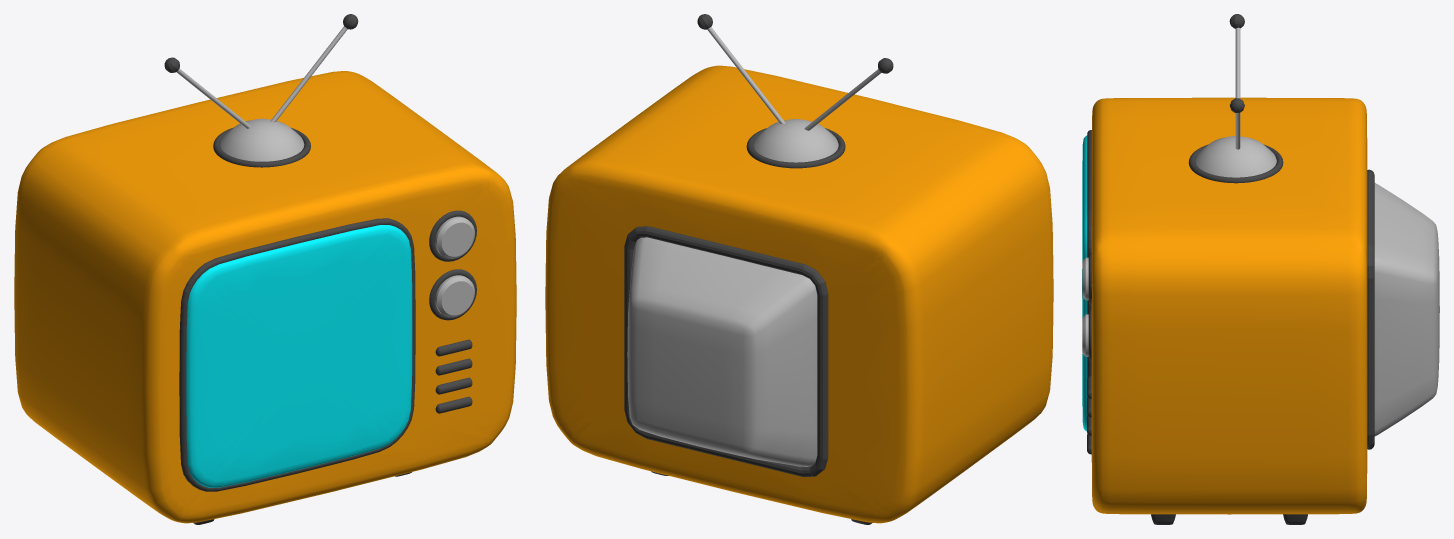
The model's file is vintage_tv.glb.
The picture shows the model from 3 angles, left to right: view 1: azimuth 30°, elevation 25°; view 2: azimuth 150°, elevation 25°; view 3: azimuth 270°, elevation 25°; orthographic projection. The views are drawn at different scales.
Visible parts, largest first — view 1: Plane_2, Plane.001_3, Plane.002_10, Sphere_4, Curve.002_0, Cube_6, Curve.023_1, Sphere.002_11, Curve.001_8, Curve.003_9; view 2: Plane_2, Cube.002_12, Cube.003_13, Sphere_4, Curve.023_1, Sphere.002_11; view 3: Plane_2, Cube.002_12, Sphere_4, Cube.003_13, Plane.001_3, Sphere.002_11, Plane.002_10, Curve.023_1, Curve.002_0, Cube.001_7.
Part boxes in pixels (box(x1,y1,x2,y2)): Plane_2: box(14, 71, 516, 523); Plane.001_3: box(186, 225, 412, 487); Plane.002_10: box(179, 218, 415, 491); Sphere_4: box(220, 118, 304, 161); Curve.002_0: box(435, 216, 474, 317); Cube_6: box(435, 339, 472, 413); Curve.023_1: box(176, 26, 347, 128); Sphere.002_11: box(213, 127, 310, 167); Curve.001_8: box(429, 210, 476, 261); Curve.003_9: box(429, 269, 476, 320); Plane_2: box(545, 65, 1053, 523); Cube.002_12: box(627, 237, 817, 466); Cube.003_13: box(624, 226, 828, 476); Sphere_4: box(753, 119, 838, 162); Curve.023_1: box(707, 27, 881, 130); Sphere.002_11: box(746, 128, 845, 168); Plane_2: box(1091, 97, 1367, 514); Cube.002_12: box(1374, 183, 1439, 436); Sphere_4: box(1195, 136, 1276, 177); Cube.003_13: box(1367, 169, 1374, 449); Plane.001_3: box(1082, 135, 1087, 431); Sphere.002_11: box(1188, 144, 1283, 183); Plane.002_10: box(1087, 130, 1091, 377); Curve.023_1: box(1235, 27, 1240, 149); Curve.002_0: box(1082, 257, 1088, 356); Cube.001_7: box(1151, 514, 1307, 524).
Size of the model in its own units: 1.97 by 2.18 by 1.69.
